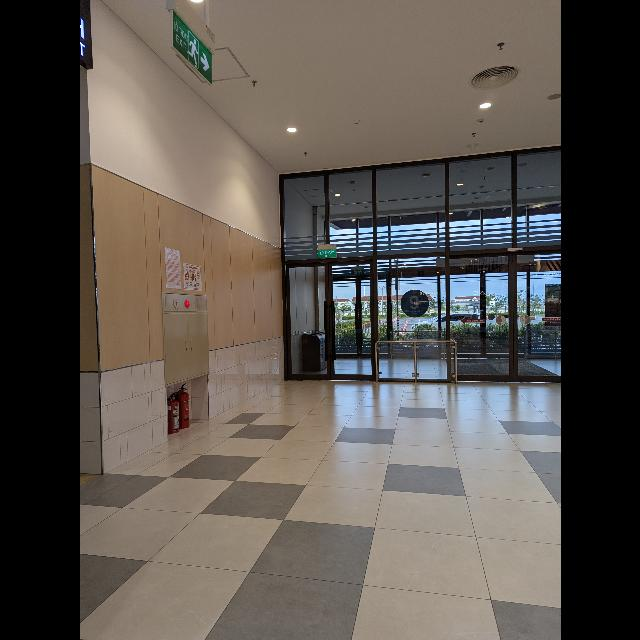exit: (170, 10, 210, 84), (316, 250, 336, 258), (351, 268, 364, 276)
